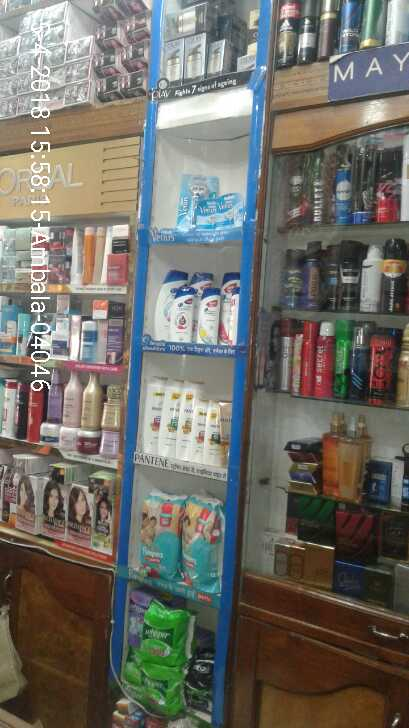venus: (175, 175, 219, 229), (220, 192, 242, 227)
